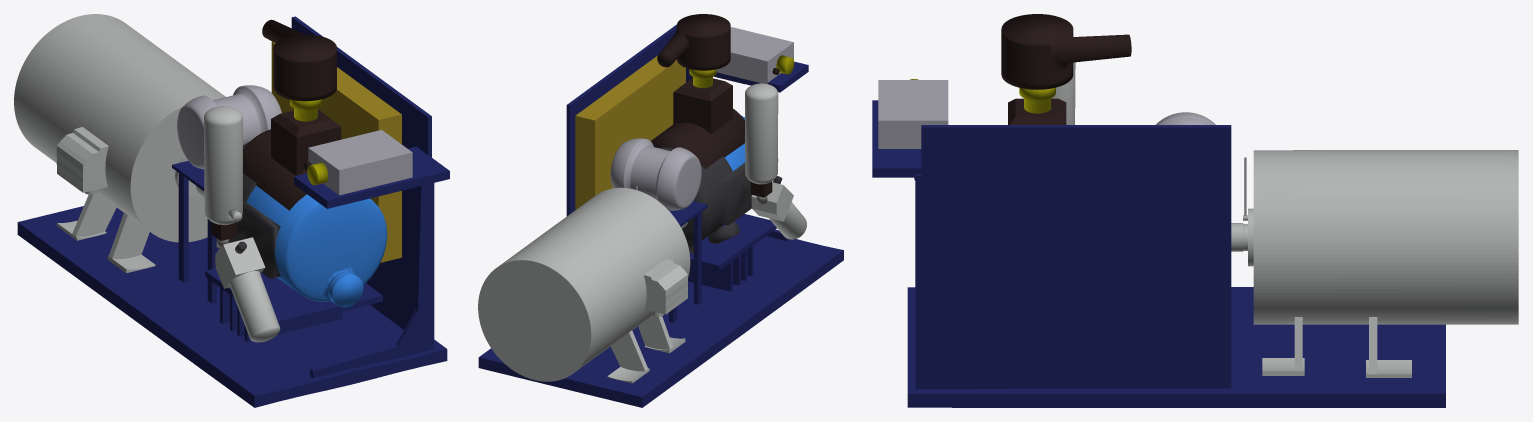
File: компр.fbx
3 views of the same model, side by side, from view 1: azimuth 30°, elevation 25°; view 2: azimuth 150°, elevation 25°; view 3: azimuth 270°, elevation 25° (orthographic). The views are drawn at different scales.
Parts seen in each view (by area): view 1: Cylinder, Cube, Cylinder.002, Cube.008, Cube.010, Cube.006, Cube.009, Cylinder.001, Sphere.002, Sphere, Cube.004, Cube.007 (+7 smaller); view 2: Cylinder, Cube, Cube.010, Sphere, Cube.001, Cylinder.001, Sphere.002, Cube.008, Cube.009, Cylinder.003, Cube.004, Cube.003 (+4 smaller); view 3: Cube.008, Cylinder, Cube, Cylinder.001, Cube.009, Cube.007, Cube.006, Cube.004, Cylinder.004, Sphere.002.
Part boxes in pixels (bbox=[...]): Cylinder: bbox=[14, 14, 225, 273]; Cube: bbox=[17, 161, 447, 407]; Cylinder.002: bbox=[247, 185, 387, 307]; Cube.008: bbox=[291, 16, 431, 329]; Cube.010: bbox=[271, 41, 401, 262]; Cube.006: bbox=[310, 183, 434, 378]; Cube.009: bbox=[308, 130, 412, 195]; Cylinder.001: bbox=[262, 19, 336, 101]; Sphere.002: bbox=[204, 106, 242, 225]; Sphere: bbox=[177, 85, 281, 169]; Cube.004: bbox=[271, 109, 341, 175]; Cube.007: bbox=[294, 146, 449, 208]; Cylinder: bbox=[478, 186, 690, 383]; Cube: bbox=[478, 201, 843, 407]; Cube.010: bbox=[575, 55, 685, 209]; Sphere: bbox=[610, 138, 701, 211]; Cube.001: bbox=[659, 147, 751, 253]; Cylinder.001: bbox=[657, 14, 730, 70]; Sphere.002: bbox=[745, 83, 778, 184]; Cube.008: bbox=[566, 24, 676, 216]; Cube.009: bbox=[716, 27, 793, 83]; Cylinder.003: bbox=[651, 108, 744, 168]; Cube.004: bbox=[673, 78, 732, 134]; Cube.003: bbox=[751, 182, 793, 221]; Cube.008: bbox=[921, 125, 1231, 389]; Cylinder: bbox=[1231, 150, 1518, 377]; Cube: bbox=[907, 287, 1445, 407]; Cylinder.001: bbox=[1001, 14, 1131, 89]; Cube.009: bbox=[878, 80, 948, 148]; Cube.007: bbox=[872, 100, 921, 177]; Cube.006: bbox=[914, 174, 921, 389]; Cube.004: bbox=[1008, 98, 1066, 124]; Cylinder.004: bbox=[1019, 87, 1055, 113]; Sphere.002: bbox=[1051, 62, 1075, 124].
Bounding box in the file's own units: 240 × 347 × 613.
